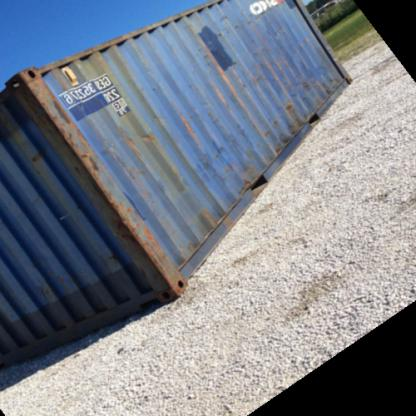Damage: (37, 87, 105, 180), (109, 201, 174, 285), (257, 90, 294, 141), (198, 142, 237, 180), (219, 9, 276, 32), (304, 62, 340, 94), (124, 120, 155, 152), (179, 112, 197, 138), (196, 41, 219, 58)
